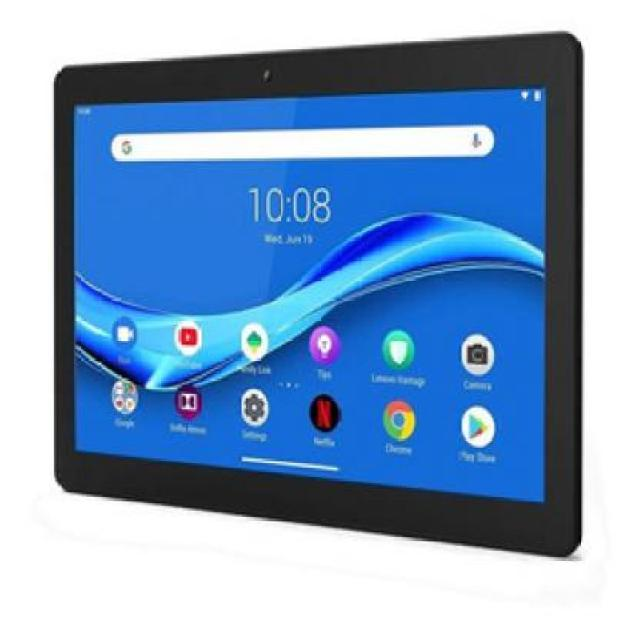tablet: (25, 11, 613, 566)
